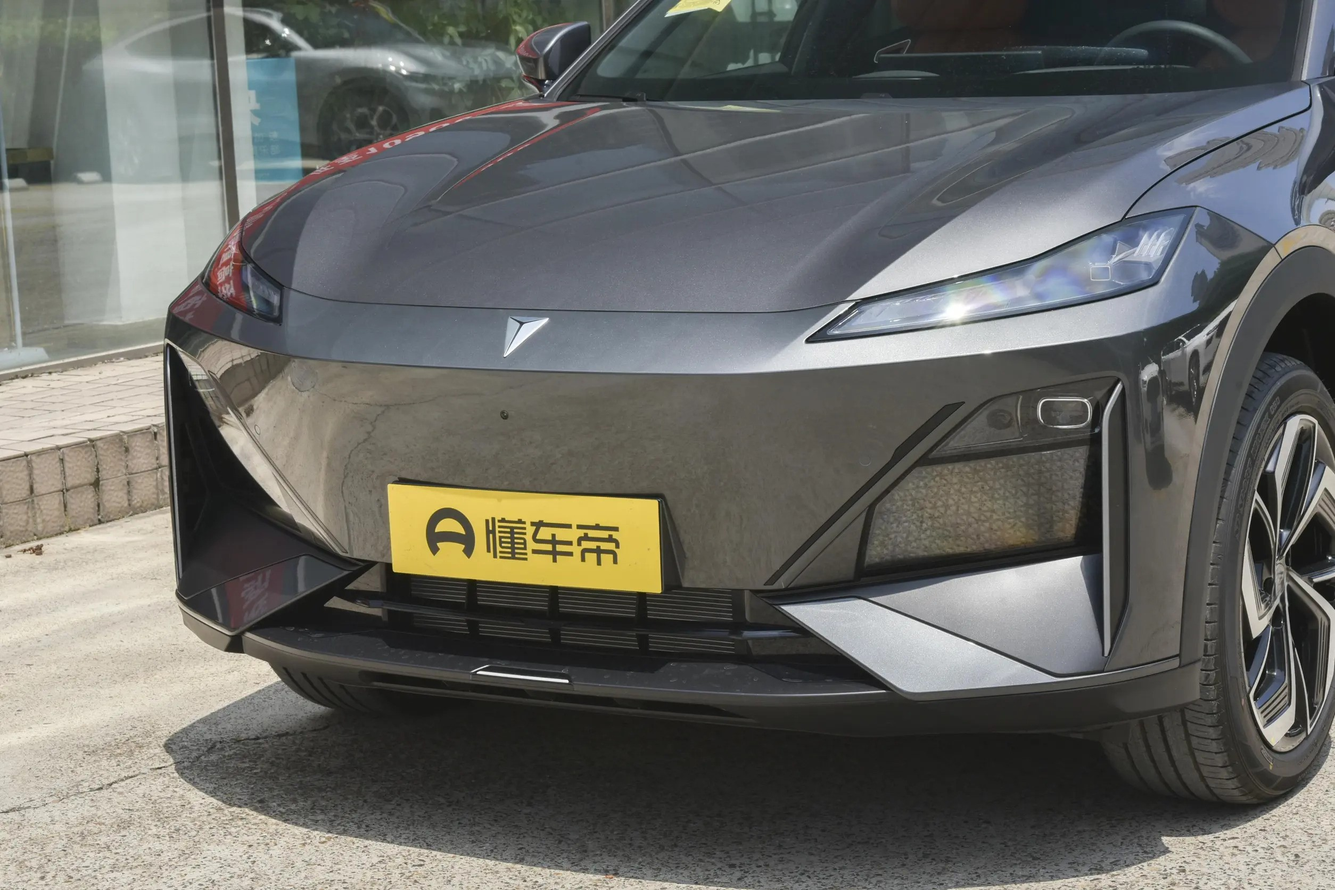Deepal: (504, 316, 549, 357)
